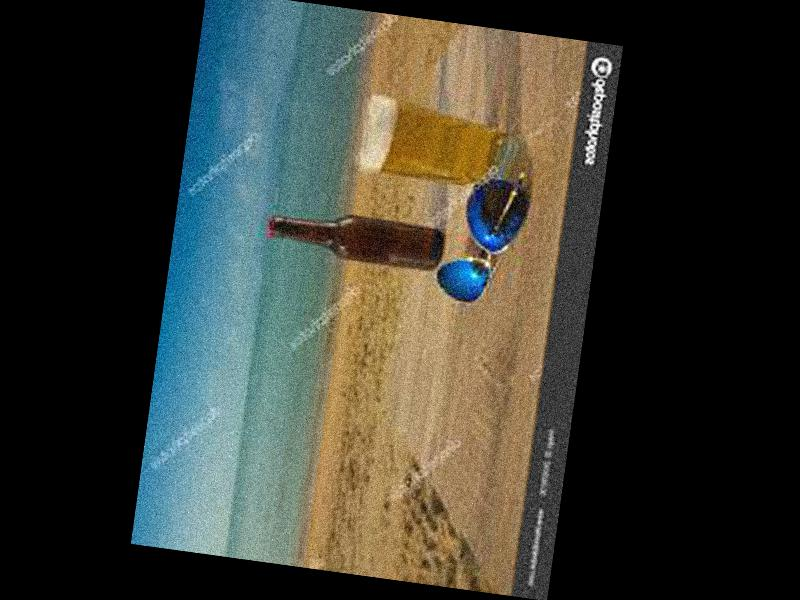Beer: (264, 204, 443, 272)
